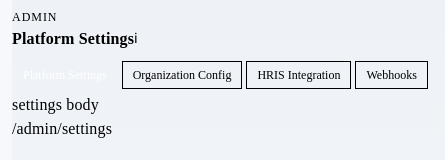
AdminTabbedShell — W3-01 › navigates to the target admin route when a tab is clicked
Expected: the text with test id "probe-path" reads "/admin/settings", [12,120,112,137]
Click the tab with test id "tab-webhooks": [392, 75] box [355,61,428,89]
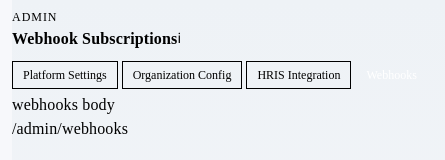
Expected: the text with test id "probe-path" reads "/admin/webhooks", [12,120,128,137]
Expected: the heading "Webhook Subscriptions" is shown, [12,29,177,48]
